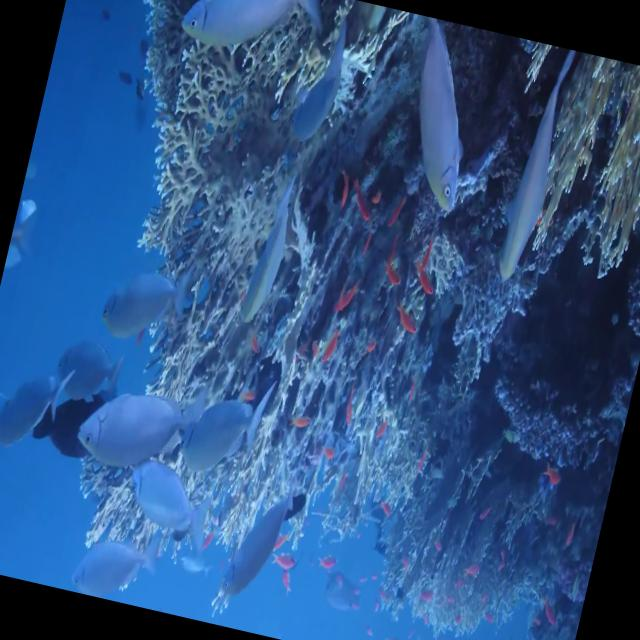fish: (374, 15, 496, 237), (487, 43, 592, 293), (217, 158, 313, 358), (66, 351, 208, 486), (268, 5, 364, 183), (173, 350, 288, 494), (111, 448, 229, 572), (215, 473, 298, 619), (174, 0, 328, 77), (84, 252, 188, 366), (61, 522, 161, 608), (0, 351, 75, 458), (21, 394, 106, 476), (307, 536, 350, 587), (327, 270, 367, 324), (331, 380, 361, 438), (314, 318, 348, 369), (388, 302, 426, 346), (534, 454, 570, 498), (282, 396, 316, 442), (270, 538, 299, 578), (412, 268, 440, 304), (377, 256, 402, 288)
